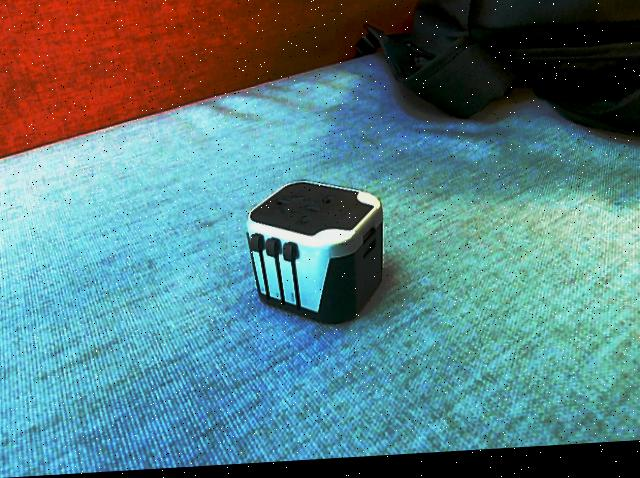adapter: (244, 180, 384, 333)
